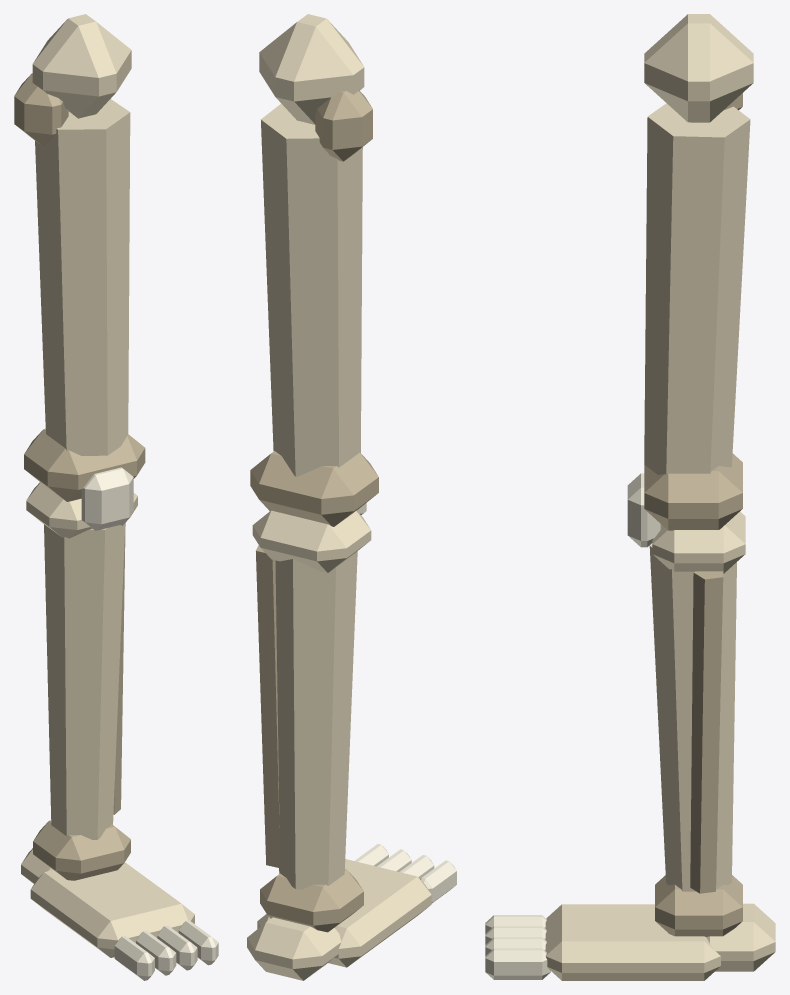
The model's file is gamba.glb.
3 renders of one model, left to right at view 1: azimuth 30°, elevation 25°; view 2: azimuth 150°, elevation 25°; view 3: azimuth 270°, elevation 25°, orthographic. The views are drawn at different scales.
Parts seen in each view (by area): view 1: gamba2; view 2: gamba2; view 3: gamba2.
Part boxes in pixels (x1,y1,x2,y2): gamba2: (14, 14, 218, 980); gamba2: (247, 14, 456, 980); gamba2: (485, 14, 775, 980).
Size of the model in its own units: 0.12 by 0.95 by 0.265.
